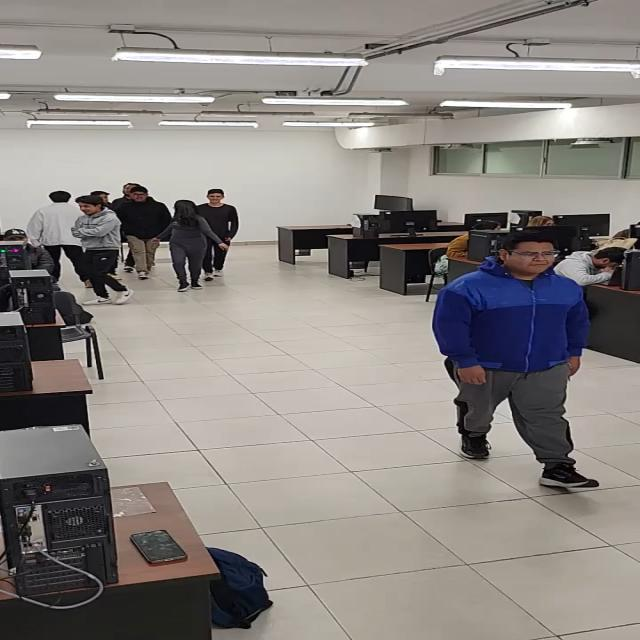Persona: (427, 227, 608, 495), (66, 193, 134, 308), (24, 186, 80, 294), (160, 195, 213, 294), (120, 183, 166, 281), (203, 190, 243, 276)
